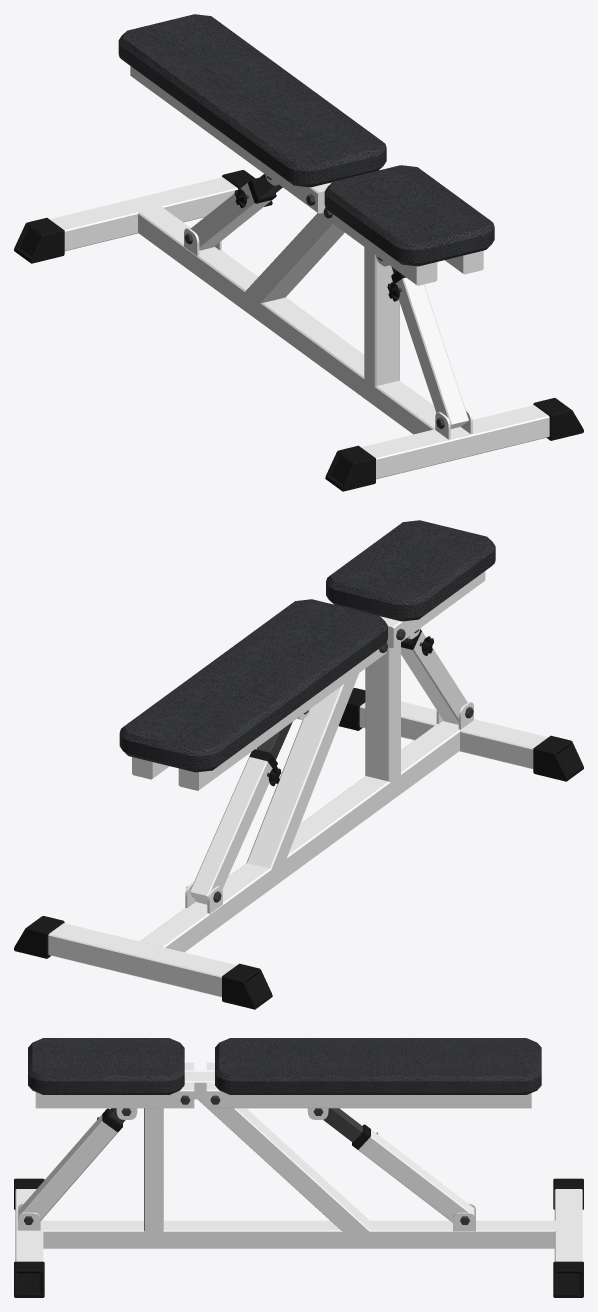
Rendered from Bench_2.FBX.
The picture shows the model from 3 angles, top to bottom: view 1: azimuth 30°, elevation 25°; view 2: azimuth 150°, elevation 25°; view 3: azimuth 270°, elevation 25°; orthographic projection. The views are drawn at different scales.
Parts seen in each view (by area): view 1: Bench_2; view 2: Bench_2; view 3: Bench_2.
Part boxes in pixels (x1,y1,x2,y2): Bench_2: (14, 14, 583, 491); Bench_2: (14, 520, 583, 1009); Bench_2: (14, 1038, 583, 1297).
Size of the model in its own units: 0.5793 by 1.36 by 0.5019.
